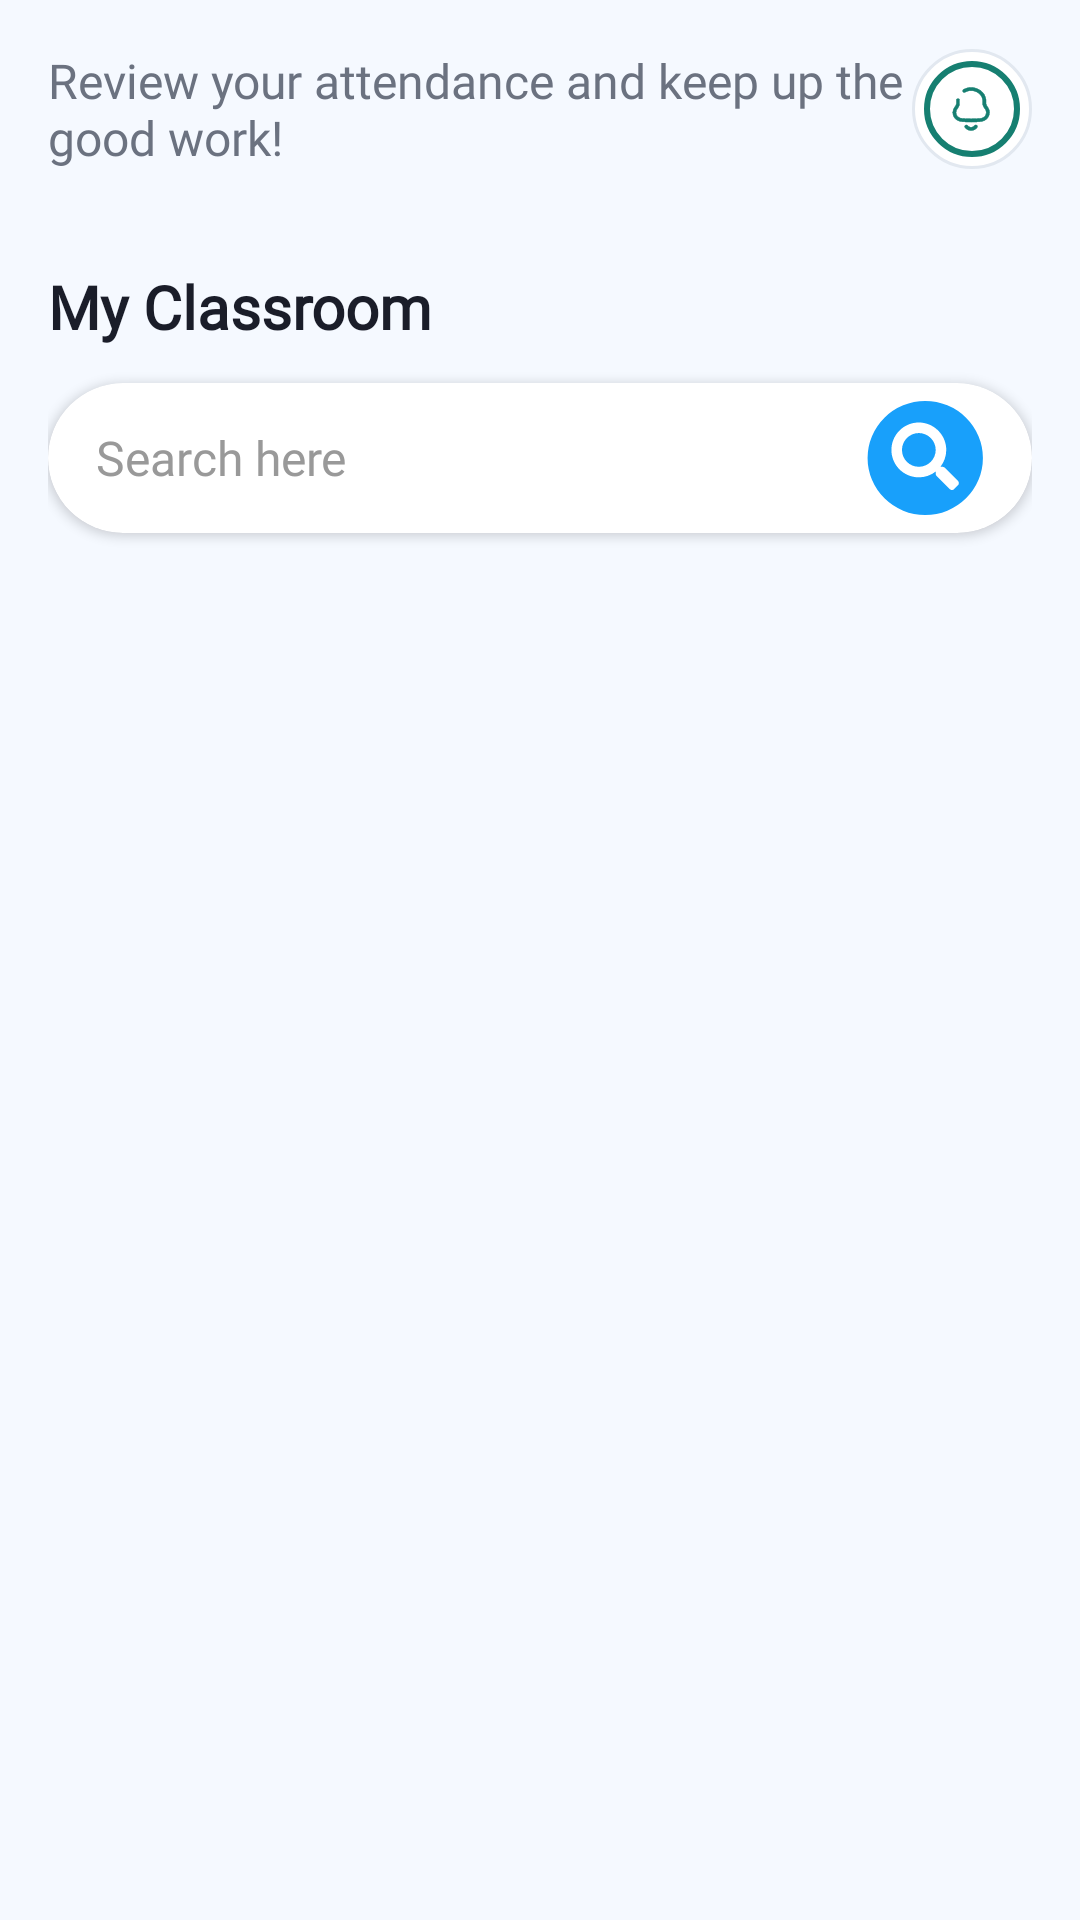

Screen size 1080w x 1920h. Icon name, then its center in pixels as (x=x, y=y):
Notifications: (x=972, y=109)
